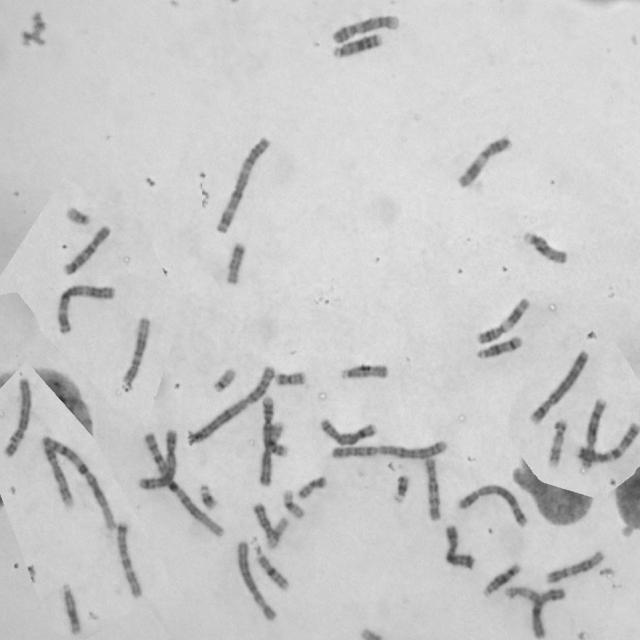A1: (143, 429, 227, 539), (40, 433, 117, 533)
A2: (187, 365, 277, 445), (332, 443, 446, 459)
A3: (216, 133, 271, 234), (56, 284, 116, 335)
B4: (529, 348, 591, 425), (258, 394, 276, 488)
B5: (456, 483, 528, 528), (138, 428, 178, 492)
C10: (64, 225, 114, 277), (424, 455, 445, 522)
C11: (457, 133, 513, 188), (476, 296, 533, 344)
C12: (122, 314, 154, 384), (545, 550, 605, 585)
C6: (237, 540, 279, 623), (3, 377, 32, 458)
C7: (575, 420, 640, 464), (116, 520, 144, 600)
C8: (582, 395, 606, 470), (320, 416, 377, 446)
C9: (42, 444, 76, 507), (331, 14, 402, 44)
D13: (331, 33, 383, 60), (59, 582, 82, 636)
D14: (480, 562, 521, 598), (475, 334, 527, 358)
D15: (521, 229, 569, 266), (337, 362, 392, 382)
E16: (267, 421, 290, 457)
E17: (547, 416, 569, 468), (504, 585, 544, 607)
E18: (254, 502, 280, 542), (224, 241, 246, 286)
F19: (282, 488, 306, 520), (265, 517, 288, 550)
F20: (298, 476, 328, 500), (272, 371, 310, 386)
G21: (391, 474, 411, 505), (197, 482, 218, 510)
G22: (212, 366, 242, 392), (63, 204, 91, 226)
X: (531, 588, 567, 640), (442, 522, 476, 570)
